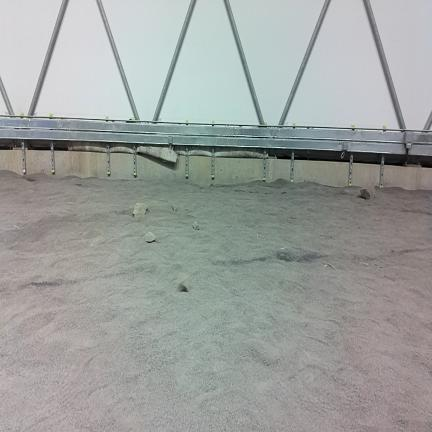Rock: (177, 273, 191, 292), (133, 203, 148, 217), (360, 186, 375, 199), (145, 232, 155, 242), (193, 222, 199, 229), (172, 204, 177, 211)
